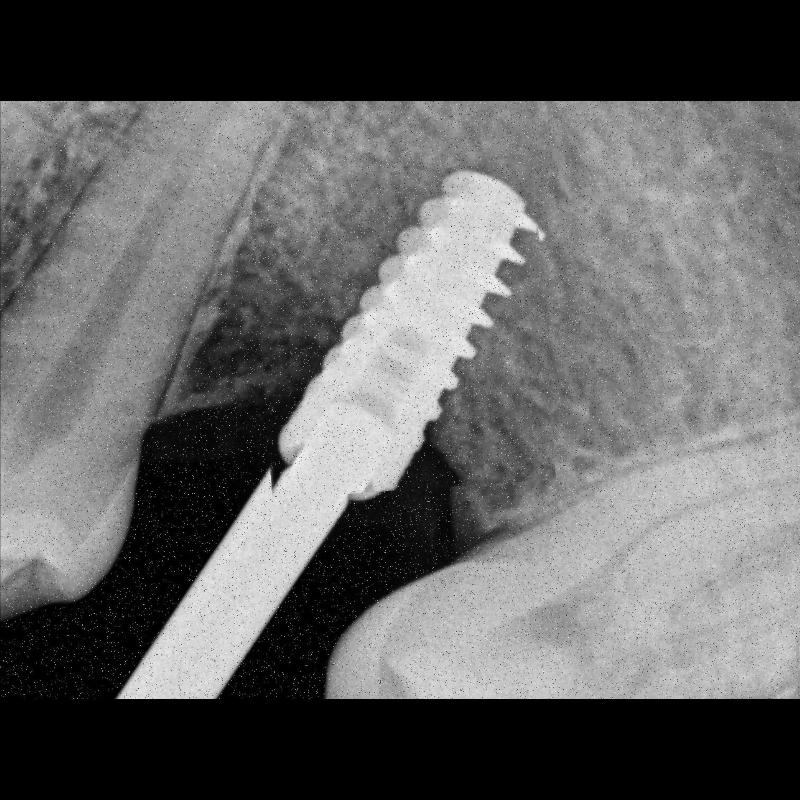ADIN: (256, 166, 550, 494)
